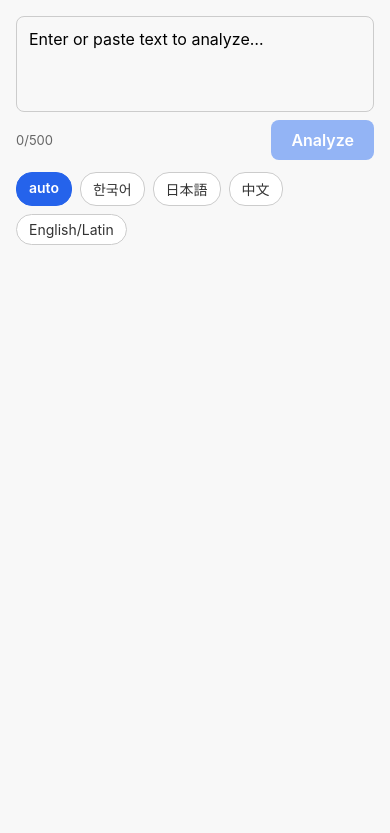
Test case: HomeScreen error placement (FR-013) › network failure shows the retriable banner, and Retry resubmits
The width and height of the screenshot is (390, 833).
Expected: the button "Analyze" is shown, [271, 120, 374, 160]
Type "hello" into the text box labelled "text to analyze" at (195, 64), box [16, 16, 374, 112]
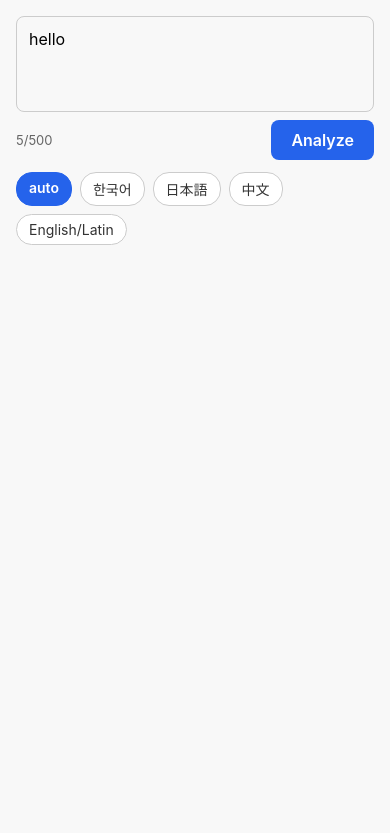
Click the button "Analyze" at (323, 140), box [271, 120, 374, 160]
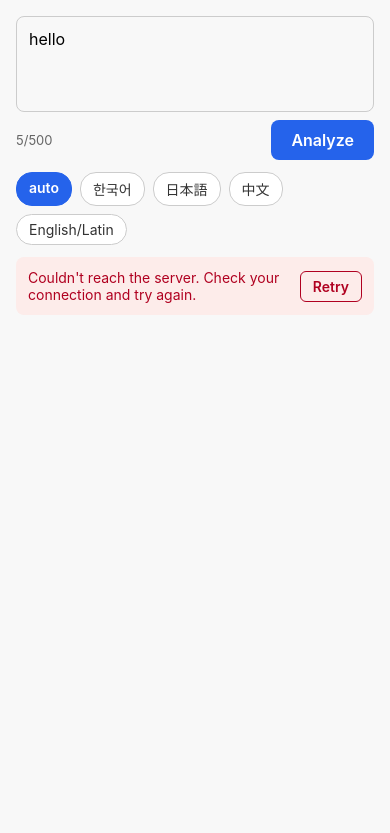
Now the text "Check your connection" is shown, box [28, 269, 283, 303]
Click the button "Retry" at (331, 286), box [300, 270, 362, 302]
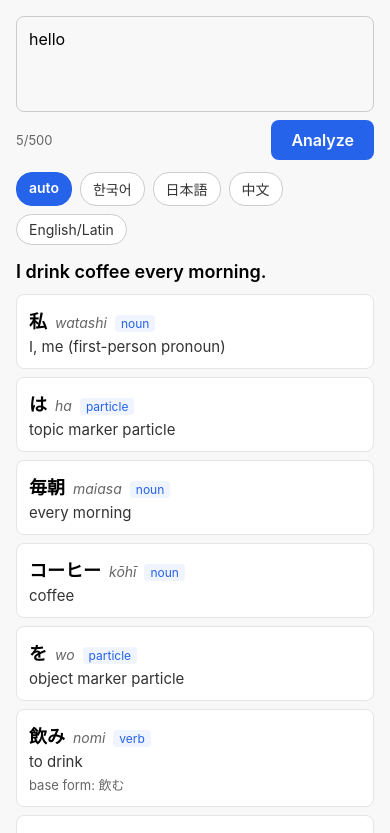
Now the heading "I drink coffee every morning." is shown, box [16, 261, 267, 282]
